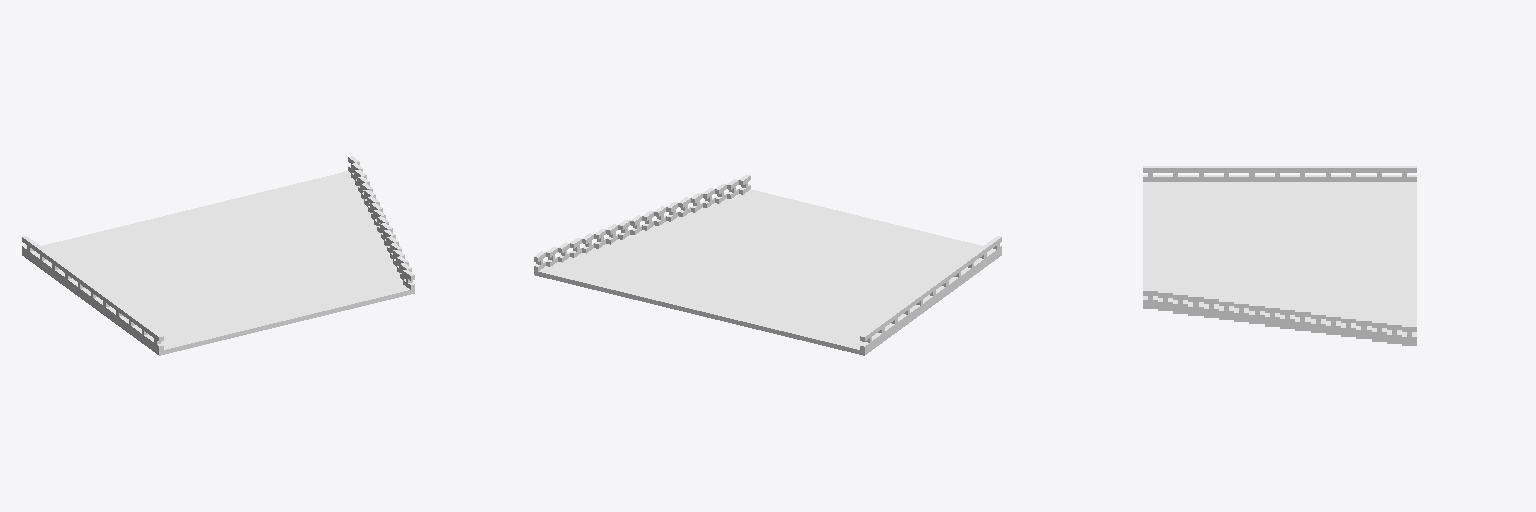
File: Split_0-1.obj
3 renders of one model, left to right at view 1: azimuth 30°, elevation 25°; view 2: azimuth 150°, elevation 25°; view 3: azimuth 270°, elevation 25°, orthographic.
Visible parts, largest first — view 1: Split_0-1; view 2: Split_0-1; view 3: Split_0-1.
Part boxes in pixels (x1,y1,x2,y2): Split_0-1: (22,156,414,355); Split_0-1: (534,174,1001,355); Split_0-1: (1143,166,1416,345).
Bounding box in the file's own units: 75 × 4 × 54.